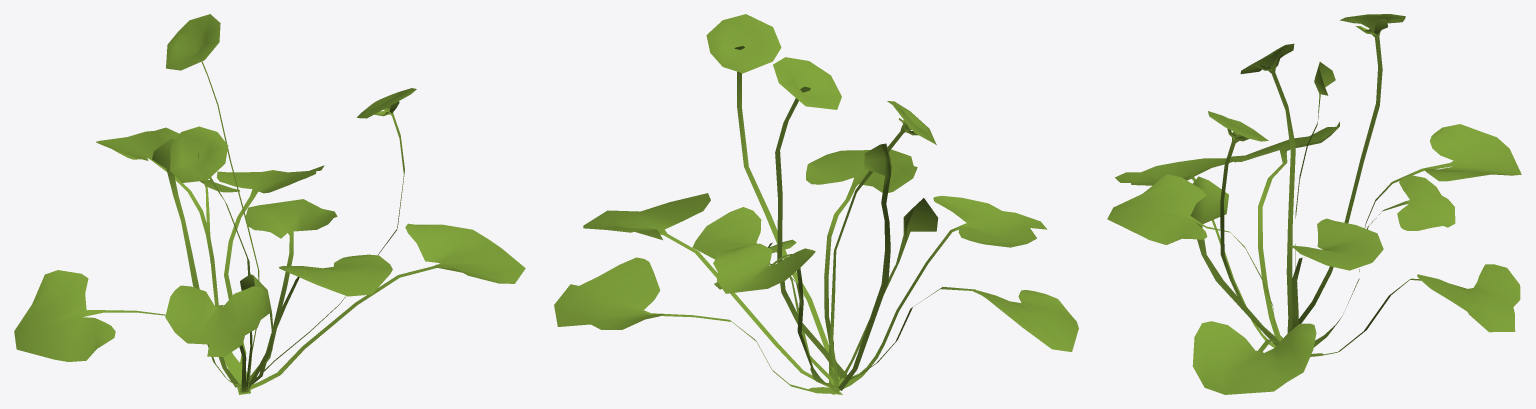
Rendered from groundcover_12.fbx.
The picture shows the model from 3 angles, left to right: view 1: azimuth 30°, elevation 25°; view 2: azimuth 150°, elevation 25°; view 3: azimuth 270°, elevation 25°; orthographic projection. The views are drawn at different scales.
Parts seen in each view (by area): view 1: groundcover_12_LOD0; view 2: groundcover_12_LOD0; view 3: groundcover_12_LOD0.
Part boxes in pixels (<box>): groundcover_12_LOD0: <box>14,14,525,394</box>; groundcover_12_LOD0: <box>554,14,1078,394</box>; groundcover_12_LOD0: <box>1107,14,1521,394</box>.
Bounding box in the file's own units: 0.254 × 0.1757 × 0.1863.
